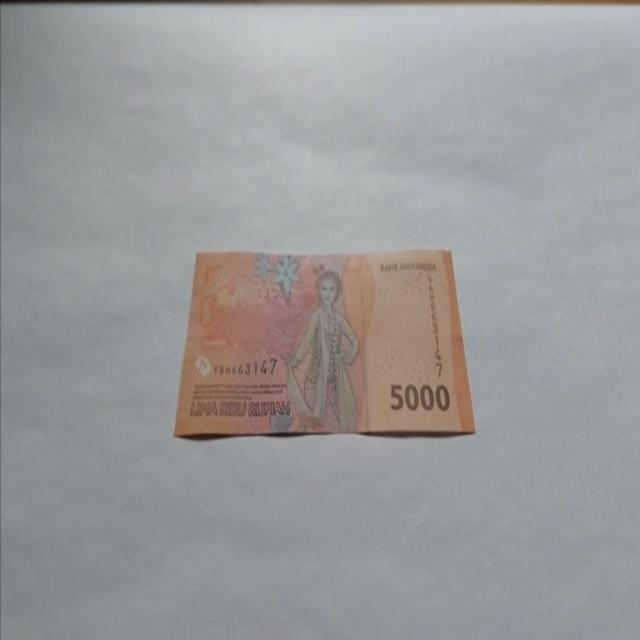lima ribu rupiah: (172, 247, 476, 439), (280, 267, 362, 433)
